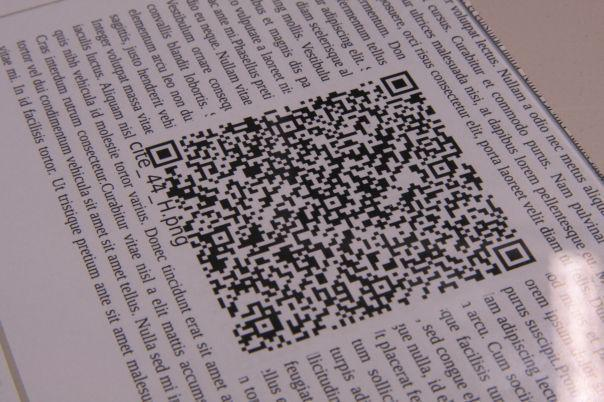qr_code: (145, 70, 536, 356)
